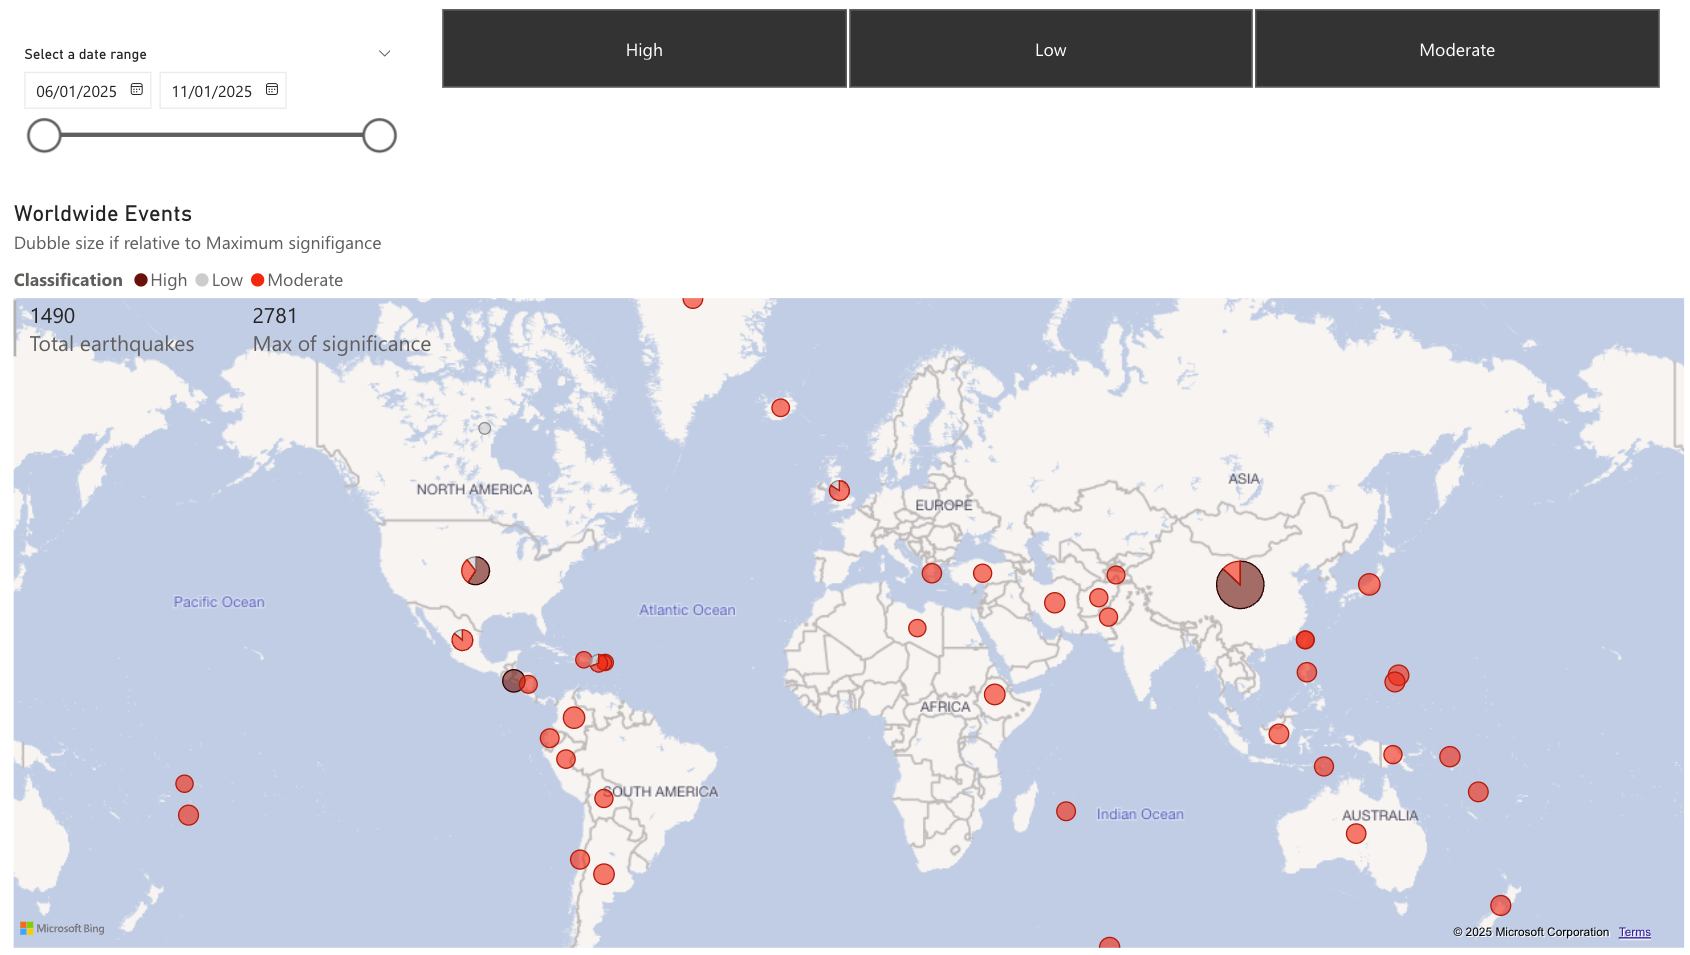

The page's visual inventory and layout, read from the dashboard file:
{"tool":"powerbi","page":{"name":"Page 2","canvas":[1280,720],"ordinal":1},"visuals":[{"type":"map","title":"Worldwide Events","fields":{"Category":["earthquake_events_gold.country_code"],"Size":["Max(earthquake_events_gold.sig)"],"Series":["earthquake_events_gold.sig_class"]},"box":[9.8,153.9,1270.2,566.5],"z":0},{"type":"slicer","fields":{"Values":["earthquake_events_gold.time"]},"box":[9.8,30.2,302.5,113.1],"z":1000},{"type":"slicer","fields":{"Values":["earthquake_events_gold.sig_class"]},"box":[312.3,0,967.7,73.2],"z":2000},{"type":"multiRowCard","fields":{"Values":["earthquake_events_gold.id","Max(earthquake_events_gold.sig)"]},"box":[9.8,221.8,358.3,66.4],"z":3000}]}

Visuals, with their boxes in screenshot pixels (x1, y1, x2, y2), scaled from the page's 1280x720 canvas onto the 1690x955 screenshot:
"Worldwide Events" map: locate(13, 204, 1689, 954)
slicer - earthquake_events_gold.time: locate(13, 40, 412, 190)
slicer - earthquake_events_gold.sig_class: locate(412, 0, 1689, 97)
multiRowCard - earthquake_events_gold.id x Max(earthquake_events_gold.sig): locate(13, 294, 486, 382)
